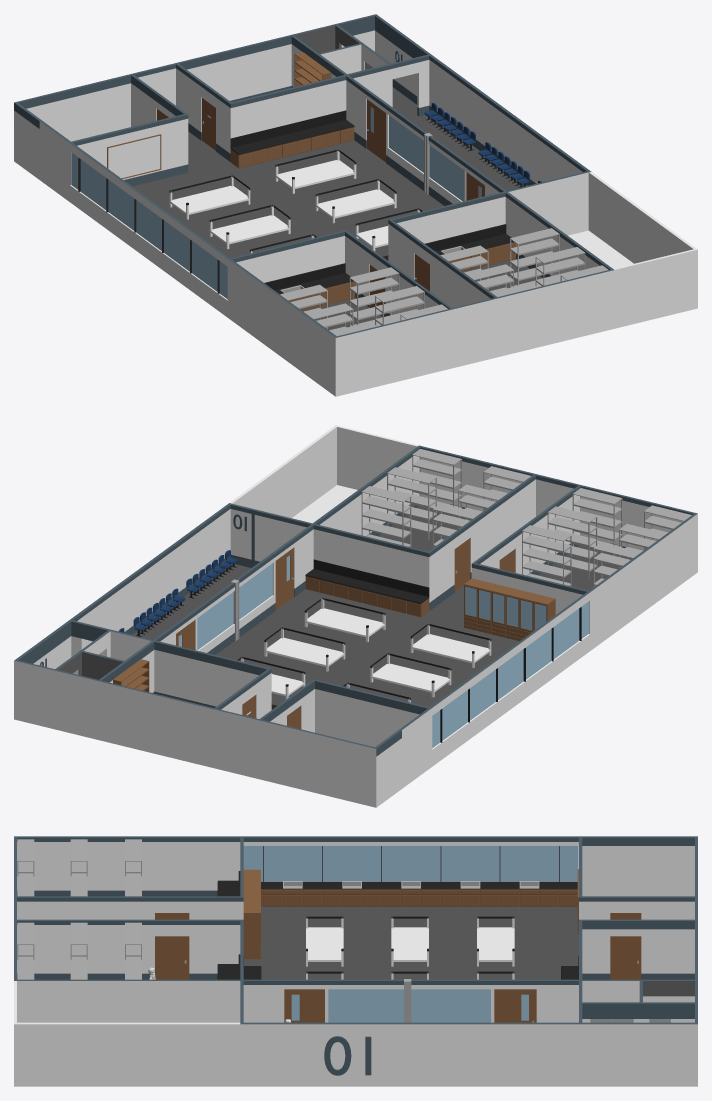
Rendered from LAB 2.0.fbx.
3 renders of one model, top to bottom at view 1: azimuth 30°, elevation 25°; view 2: azimuth 150°, elevation 25°; view 3: azimuth 270°, elevation 25°, orthographic. The views are drawn at different scales.
Visible parts, largest first — view 1: Cube, janela 2, Cube.010, janela, Cube.029, Cube.028, Cube.030, bancada.002, bancada.004, bancada.005, bancada.001, Cube.027 (+13 smaller); view 2: Cube, janela 2, Cube.008, janela, Cube.021, Cube.027, Cube.025, Cube.019, Cube.023, Cube.017, bancada, bancada.001 (+17 smaller); view 3: Cube, janela 2, Cube.007, janela, Cube.039, bancada.003, bancada.004, bancada.005, Cube.042, Cube.002, Cube.041, Cube.011 (+9 smaller).
Part boxes in pixels (x1=…): Cube: x1=14, y1=14, x2=697, y2=396; janela 2: x1=71, y1=152, x2=227, y2=298; Cube.010: x1=230, y1=110, x2=354, y2=168; janela: x1=389, y1=115, x2=464, y2=201; Cube.029: x1=264, y1=263, x2=355, y2=310; Cube.028: x1=425, y1=224, x2=515, y2=271; Cube.030: x1=107, y1=134, x2=161, y2=178; bancada.002: x1=275, y1=149, x2=356, y2=193; bancada.004: x1=209, y1=205, x2=290, y2=249; bancada.005: x1=169, y1=175, x2=250, y2=219; bancada.001: x1=315, y1=179, x2=396, y2=223; Cube.027: x1=349, y1=267, x2=399, y2=326; Cube: x1=14, y1=425, x2=697, y2=807; janela 2: x1=432, y1=601, x2=588, y2=747; Cube.008: x1=305, y1=559, x2=429, y2=617; janela: x1=197, y1=563, x2=272, y2=650; Cube.021: x1=361, y1=486, x2=411, y2=547; Cube.027: x1=522, y1=525, x2=571, y2=586; Cube.025: x1=547, y1=506, x2=597, y2=578; Cube.019: x1=387, y1=467, x2=436, y2=539; Cube.023: x1=572, y1=488, x2=622, y2=555; Cube.017: x1=412, y1=449, x2=461, y2=516; bancada: x1=304, y1=598, x2=385, y2=642; bancada.001: x1=264, y1=627, x2=345, y2=671; Cube: x1=14, y1=836, x2=697, y2=1086; janela 2: x1=243, y1=846, x2=578, y2=881; Cube.007: x1=261, y1=881, x2=577, y2=906; janela: x1=328, y1=989, x2=490, y2=1022; Cube.039: x1=155, y1=936, x2=189, y2=979; bancada.003: x1=306, y1=916, x2=343, y2=966; bancada.004: x1=391, y1=916, x2=428, y2=966; bancada.005: x1=477, y1=916, x2=514, y2=966; Cube.042: x1=494, y1=989, x2=536, y2=1022; Cube.002: x1=610, y1=936, x2=641, y2=979; Cube.041: x1=284, y1=989, x2=324, y2=1022; Cube.011: x1=243, y1=898, x2=260, y2=959.
Bounding box in the file's own units: 5233 × 808 × 8000.
